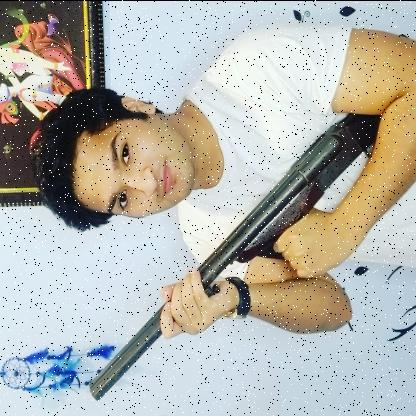rifle: (82, 62, 416, 402)
